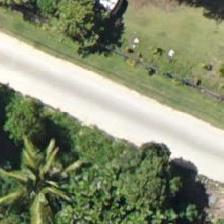coconut_tree: (0, 144, 85, 223)
